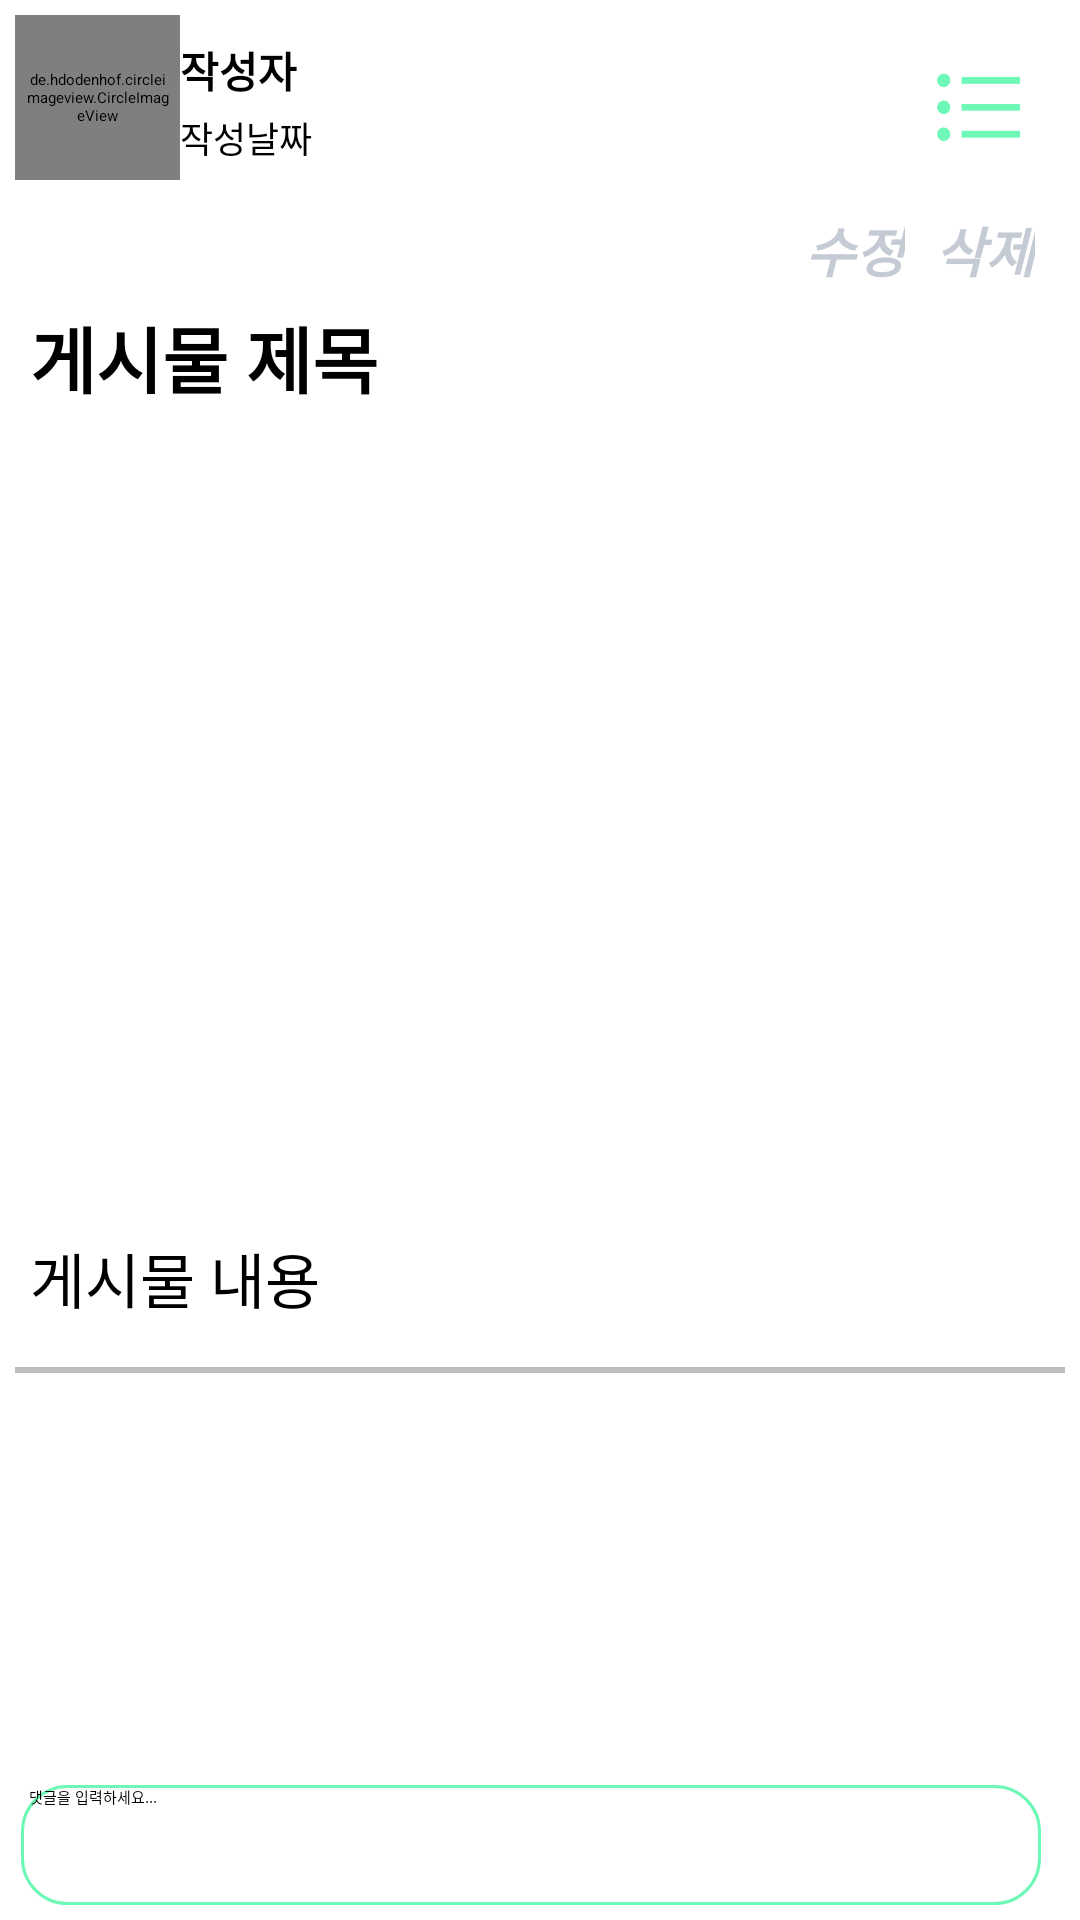

Icons on this 1080 x 1920 Android screen, each with its box as (x1, y1, x2, y2):
list: (937, 74, 1020, 141)
